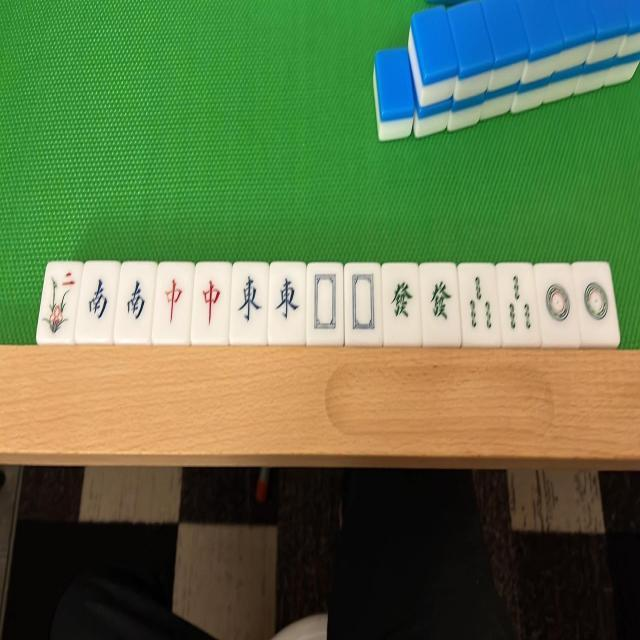bs2: (42, 268, 76, 334)
hdg: (426, 274, 456, 329), (387, 271, 415, 328)
hdr: (197, 270, 226, 336), (159, 270, 188, 334)
hdw: (347, 269, 378, 336), (311, 266, 340, 337)
hwe: (236, 268, 265, 335), (272, 270, 302, 334)
hws: (121, 270, 150, 332), (85, 270, 113, 332)
sb3: (503, 268, 536, 335), (463, 270, 496, 334)
sd1: (542, 270, 574, 332), (579, 272, 612, 332)
